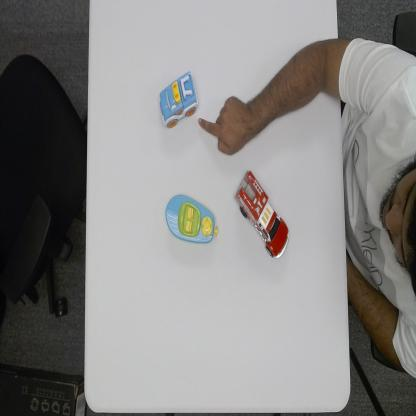Arm: (249, 38, 345, 139)
Boat: (165, 192, 220, 246)
Car: (158, 70, 198, 130)
Firetruck: (232, 168, 292, 261)
Hand: (197, 92, 250, 158)
